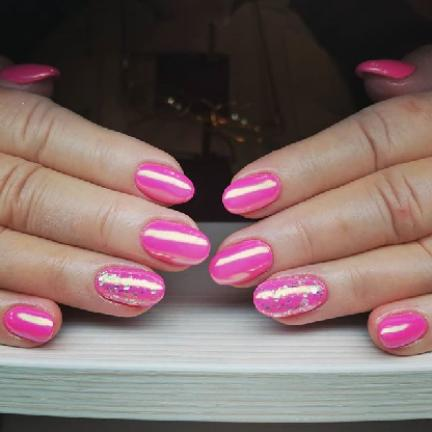Nail: (253, 274, 327, 318), (141, 220, 210, 266), (209, 240, 273, 285), (95, 266, 165, 307), (135, 163, 194, 205), (223, 172, 281, 214), (3, 305, 54, 343), (378, 312, 428, 348), (0, 64, 60, 84), (355, 59, 416, 78)
